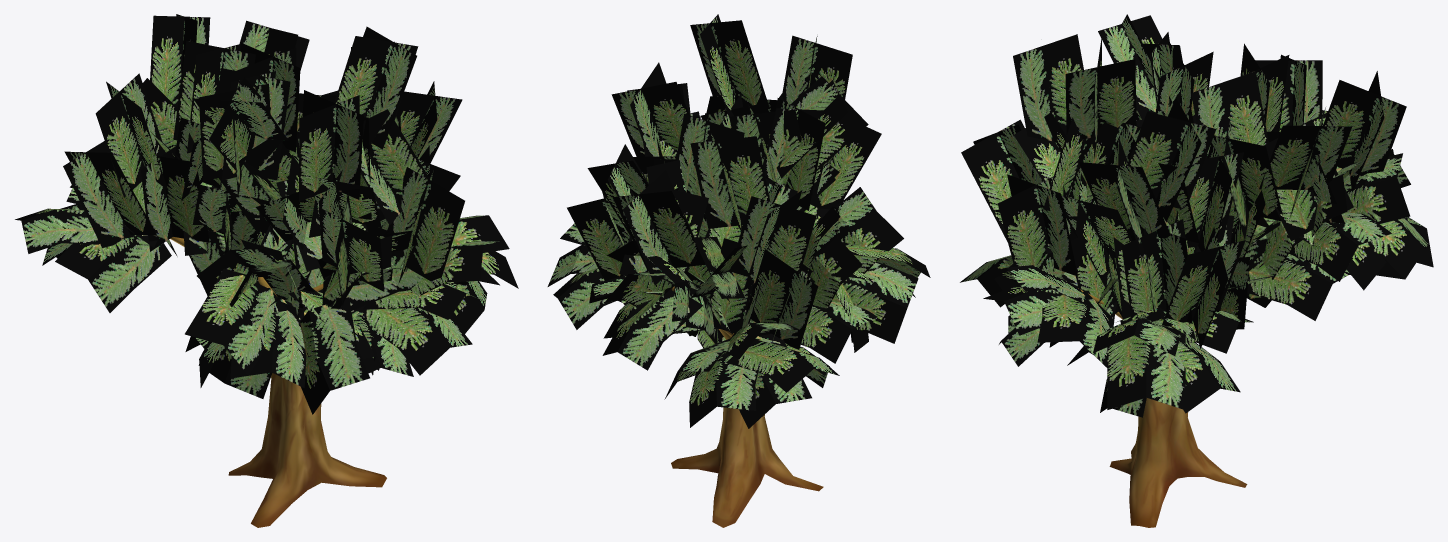
The model's file is Tree1.fbx.
3 renders of one model, left to right at view 1: azimuth 30°, elevation 25°; view 2: azimuth 150°, elevation 25°; view 3: azimuth 270°, elevation 25°, orthographic. The views are drawn at different scales.
Parts seen in each view (by area): view 1: Circle; view 2: Circle; view 3: Circle.
Part boxes in pixels (x1,y1,x2,y2): Circle: (15, 14, 518, 527); Circle: (547, 14, 930, 527); Circle: (960, 14, 1433, 527).
Size of the model in its own units: 190 by 223 by 202.
Materials: 3 (3 with a texture image).
